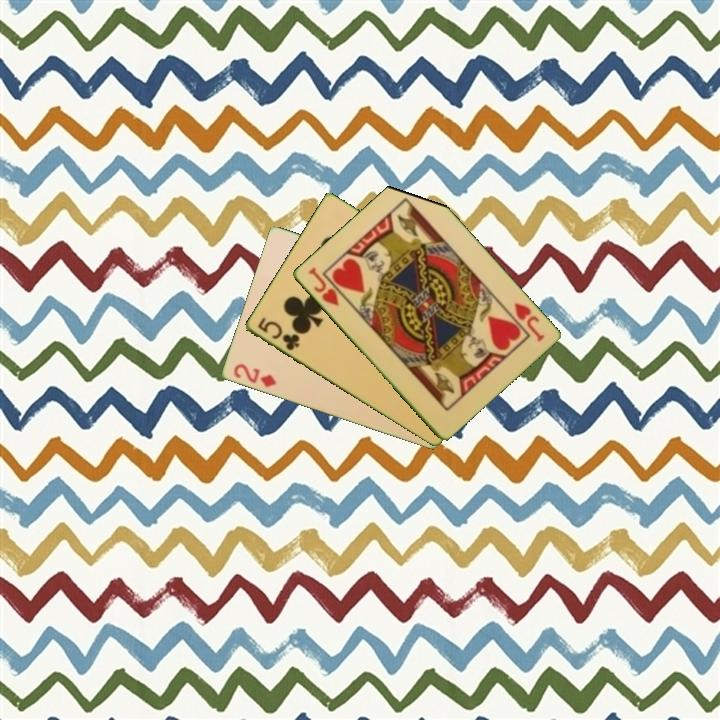2d: (229, 360, 279, 390)
5c: (253, 314, 302, 354)
Jh: (304, 263, 342, 309), (510, 299, 547, 345)
